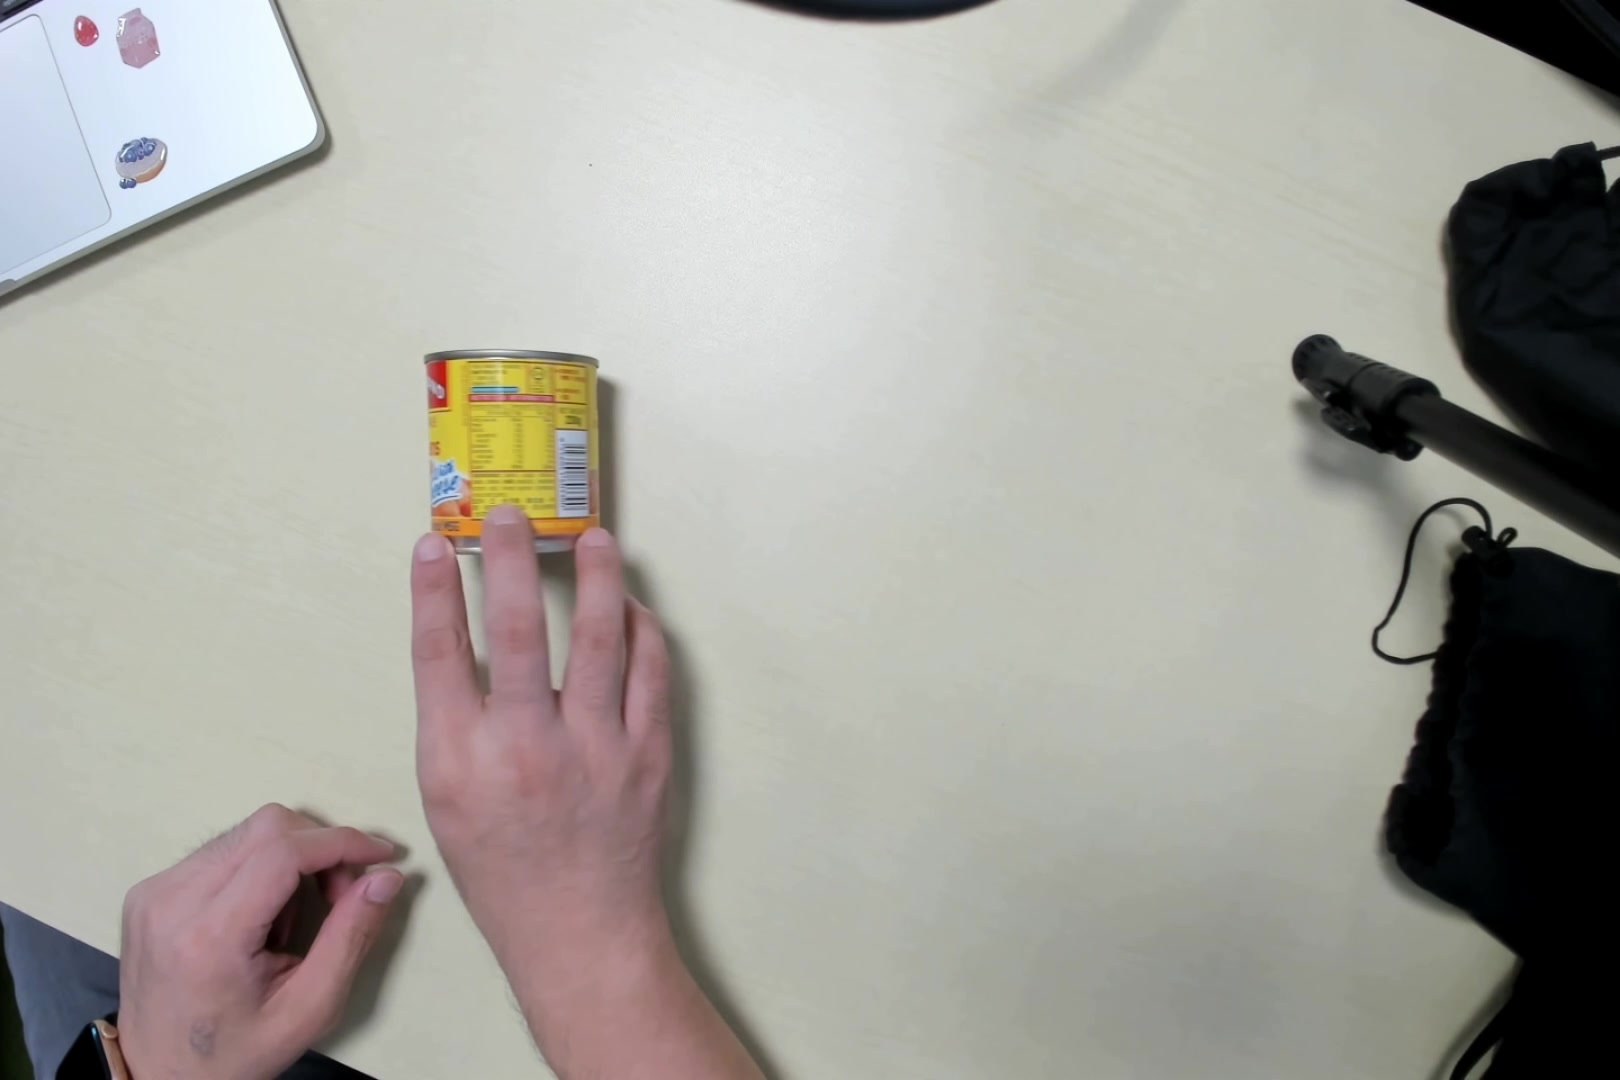CannedBakedBeans_200-299g_NonHalal_NonHealthy: (423, 346, 610, 545)
